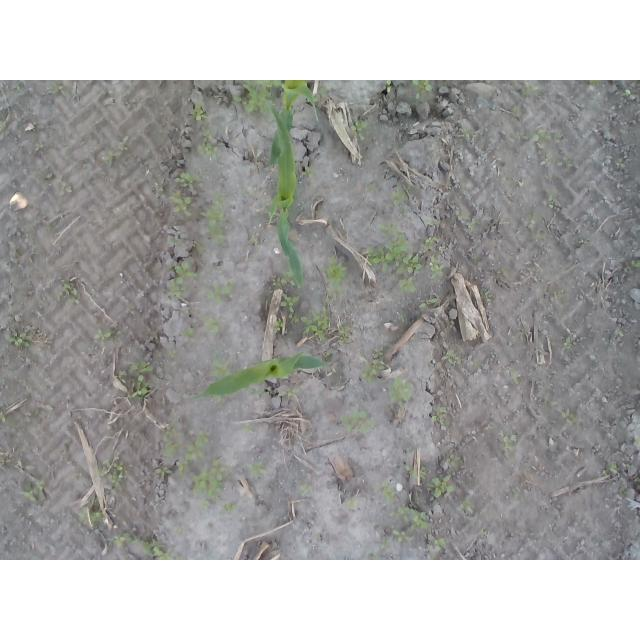Maize: (266, 101, 306, 292), (192, 349, 328, 397), (269, 80, 318, 168)
Weeds: (364, 221, 444, 295), (157, 423, 210, 478), (192, 456, 238, 512), (300, 309, 352, 344), (161, 172, 200, 217), (233, 80, 284, 114), (191, 101, 219, 159), (201, 190, 228, 248), (118, 361, 156, 401), (320, 253, 349, 304), (166, 257, 198, 299), (276, 293, 301, 343), (409, 80, 449, 105), (361, 347, 386, 386), (340, 409, 377, 435), (509, 128, 563, 145), (391, 506, 429, 530), (387, 376, 414, 408), (98, 459, 126, 489), (142, 536, 175, 561), (206, 280, 235, 304), (430, 473, 456, 499), (389, 182, 415, 207), (541, 151, 576, 169), (55, 280, 81, 304), (79, 505, 106, 527), (6, 329, 34, 349), (198, 312, 222, 334), (272, 269, 297, 290), (207, 358, 233, 378), (21, 481, 45, 502), (380, 480, 398, 505), (520, 80, 545, 97), (441, 351, 463, 370), (350, 118, 370, 138), (246, 462, 266, 482), (391, 528, 415, 544), (498, 430, 518, 449), (431, 405, 449, 426), (430, 538, 447, 559), (112, 532, 138, 545), (560, 408, 578, 425), (95, 326, 114, 342), (245, 384, 263, 400), (417, 298, 439, 311), (618, 80, 635, 96), (401, 461, 416, 479), (560, 336, 576, 352), (601, 462, 620, 475), (544, 190, 556, 209), (284, 387, 304, 398), (303, 163, 317, 177), (526, 214, 542, 226), (448, 455, 465, 466), (419, 466, 430, 483), (299, 483, 313, 496), (50, 82, 65, 94), (106, 148, 115, 168), (511, 103, 522, 119), (398, 312, 408, 329), (462, 126, 475, 139), (481, 288, 495, 300), (176, 329, 194, 338), (584, 80, 604, 88), (466, 220, 479, 232), (463, 499, 474, 513), (552, 288, 564, 300), (454, 209, 466, 221), (379, 538, 391, 550), (368, 182, 381, 193), (349, 496, 360, 509), (511, 370, 520, 385), (511, 489, 523, 499), (47, 223, 59, 233), (478, 527, 490, 537), (0, 113, 8, 127), (249, 234, 259, 245), (367, 552, 379, 561), (242, 424, 254, 433), (615, 158, 625, 168), (191, 239, 201, 249), (1, 411, 8, 425), (385, 80, 392, 93), (619, 488, 629, 497), (615, 328, 625, 337), (119, 143, 129, 151), (168, 350, 178, 358), (631, 260, 640, 268), (623, 464, 633, 469)
